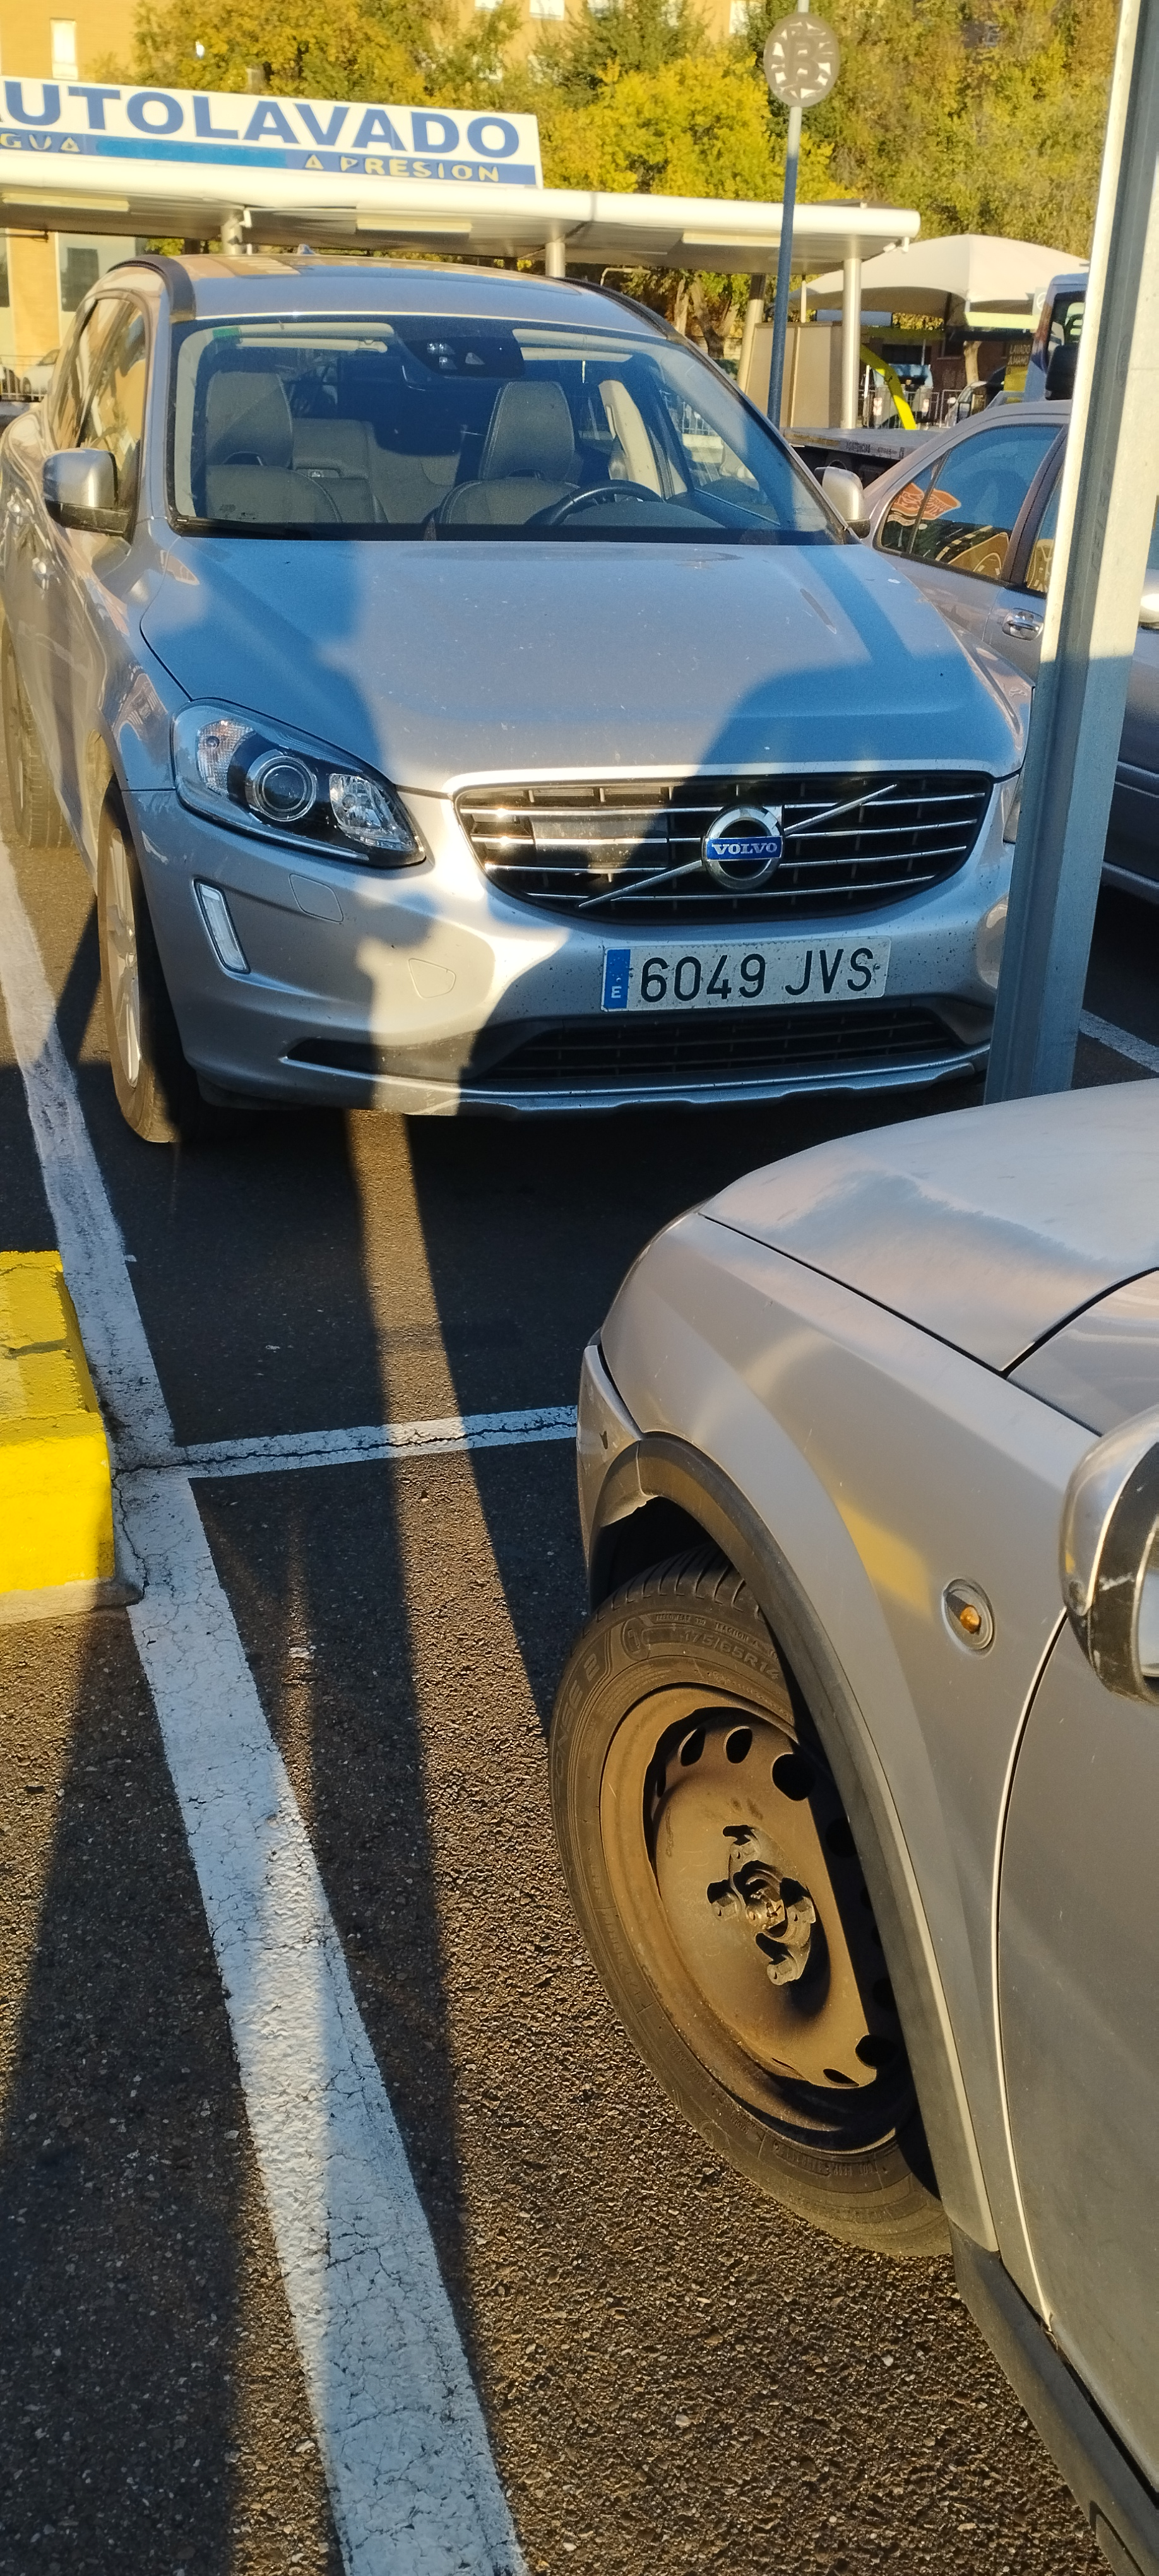Car: (23, 237, 1004, 1130)
Plate: (595, 941, 886, 1005)
